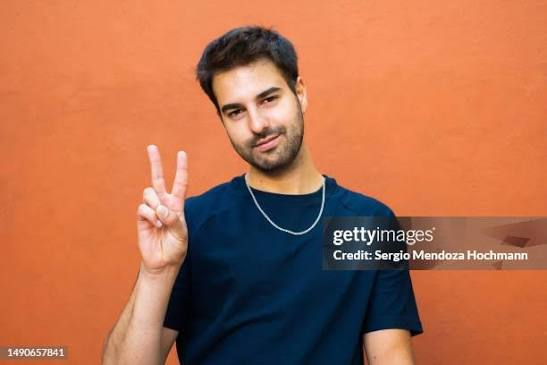peace_sign: (135, 141, 192, 270)
